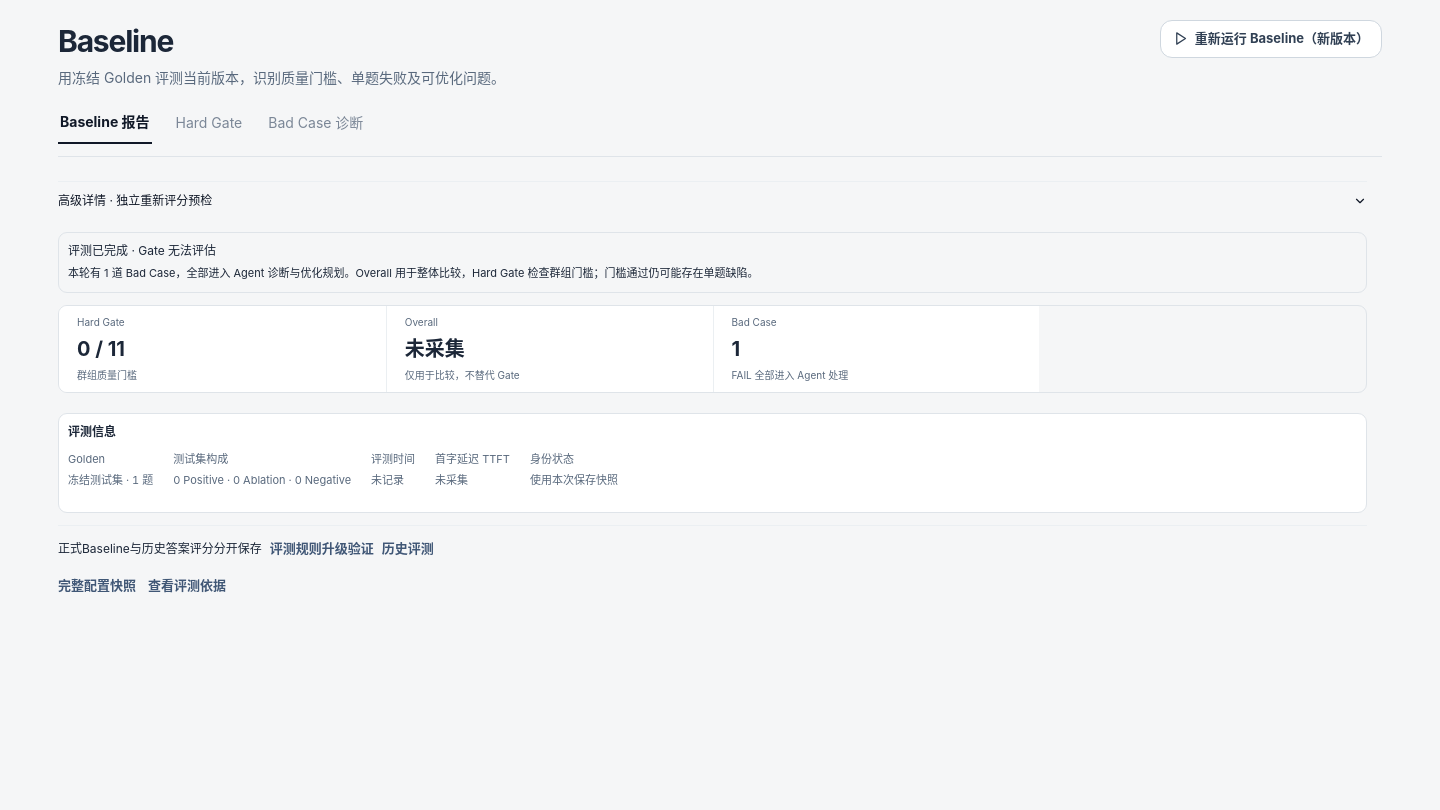
Test: keeps report summary out of gate/case tabs and separates symptoms and causes without confidence
Click the button "Hard Gate" at (209, 123), box x1=174 y1=101 x2=244 y2=144
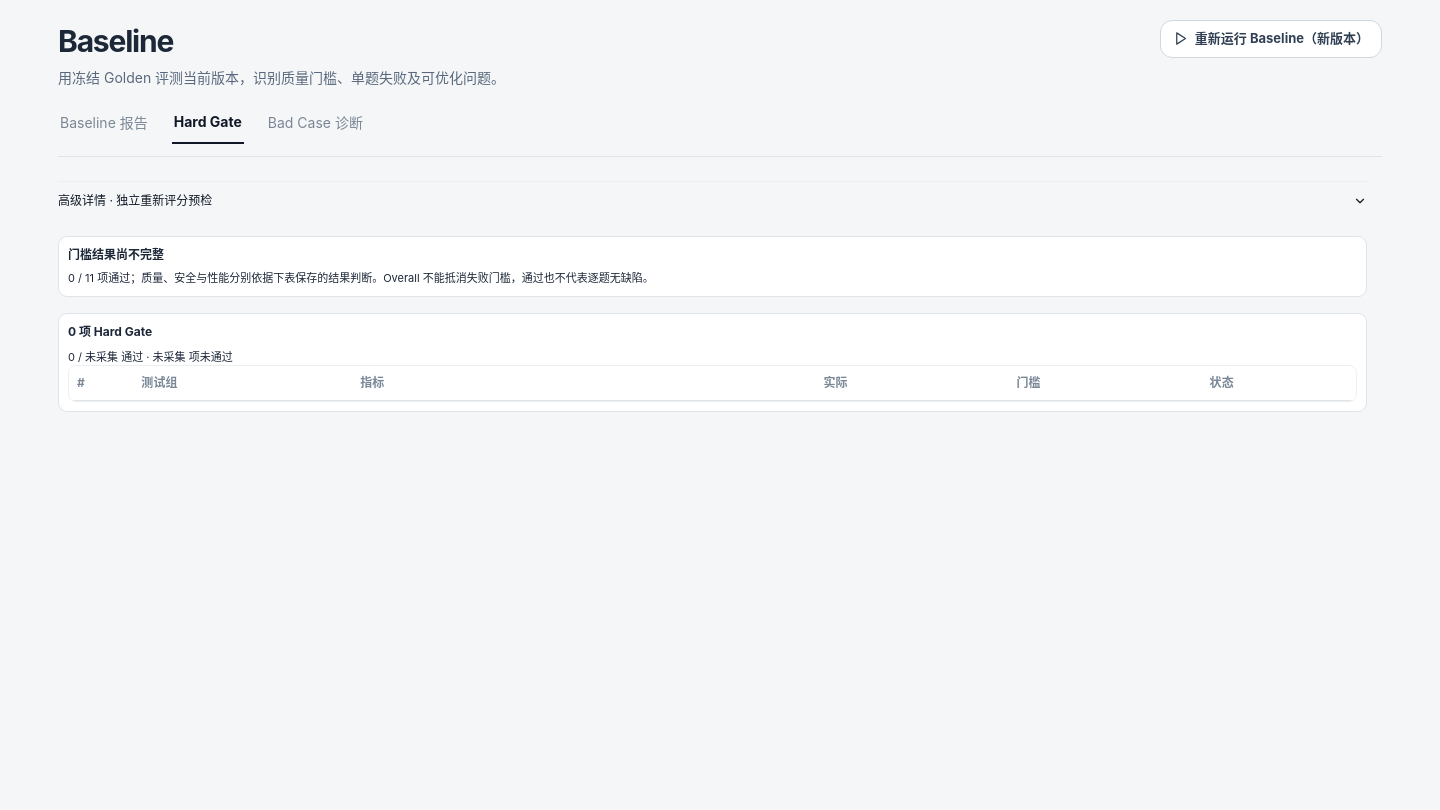
Now the element with class "baseline-metrics" is gone
Click the button "Bad Case 诊断" at (315, 123), box x1=266 y1=101 x2=365 y2=144
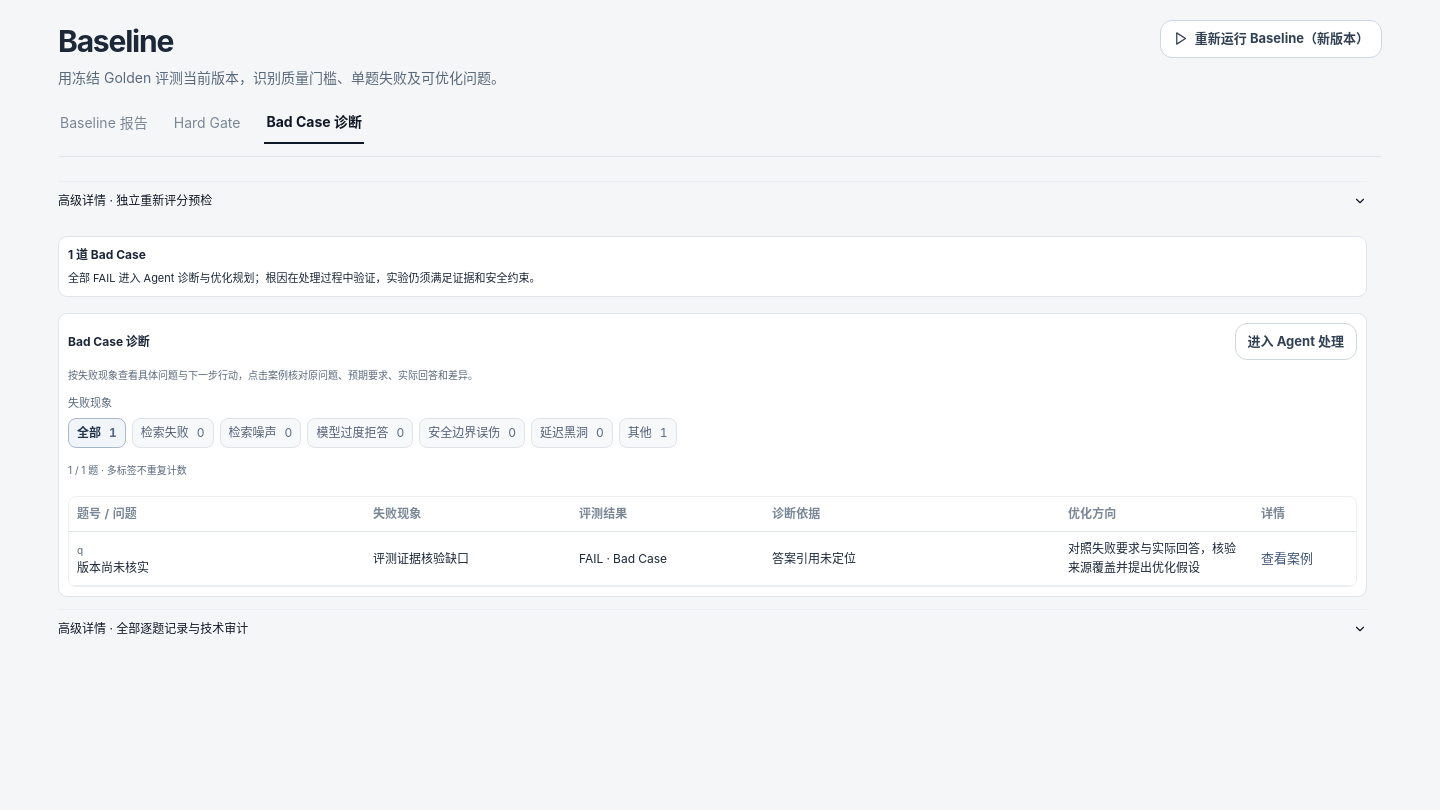
Now the text "失败现象" is shown, box x1=68 y1=369 x2=478 y2=381
Now the text "评测结果" is shown, box x1=571 y1=497 x2=764 y2=532
Now the table shows "版本尚未核实", box x1=77 y1=560 x2=149 y2=575
